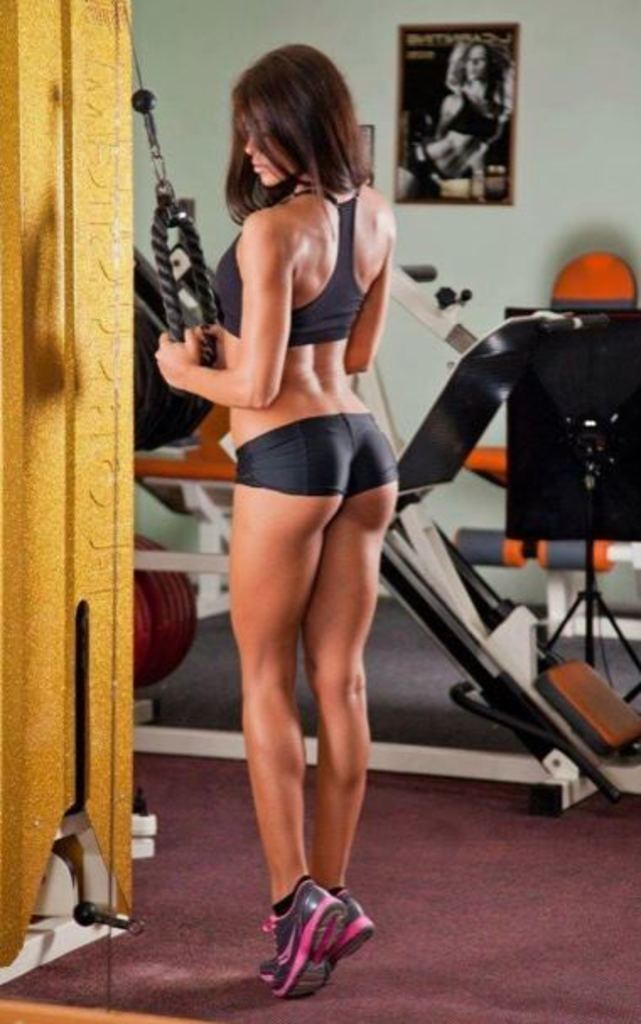Person: (154, 45, 398, 1003)
